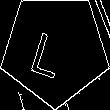L_N: (34, 20, 76, 78)
